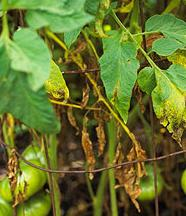Tomato Early blight leaf: (101, 26, 136, 122), (149, 63, 186, 144), (141, 19, 186, 53)
